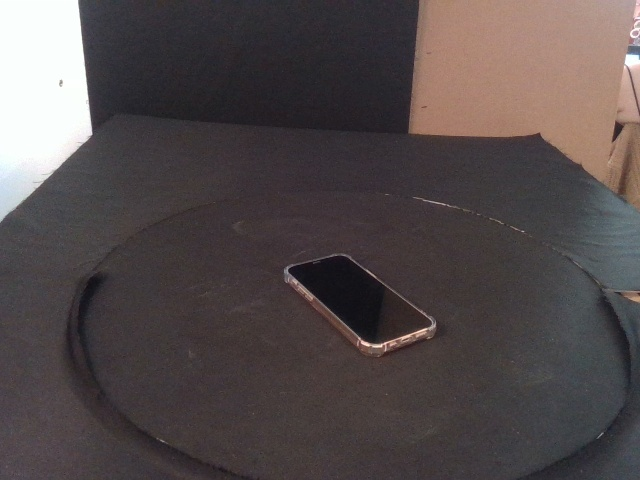phone: (282, 252, 437, 360)
